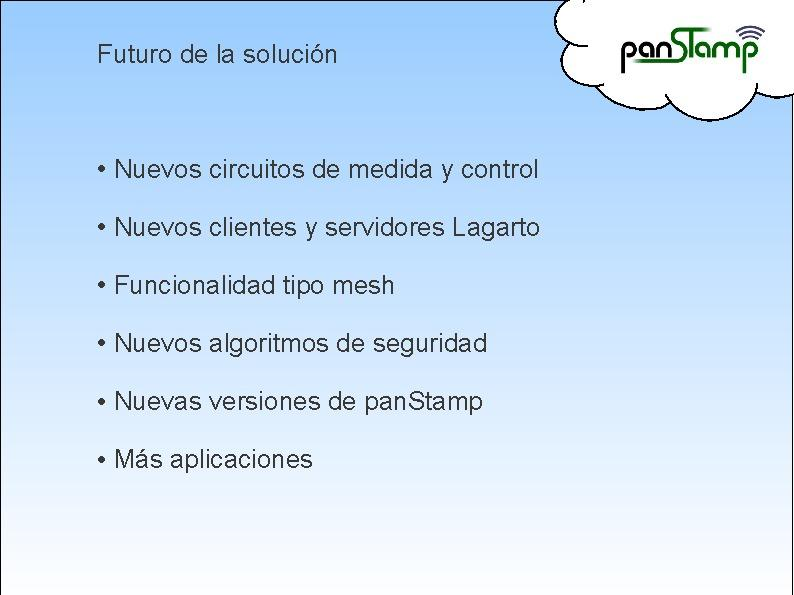paragraph: (82, 137, 582, 513)
title: (89, 30, 352, 81)
